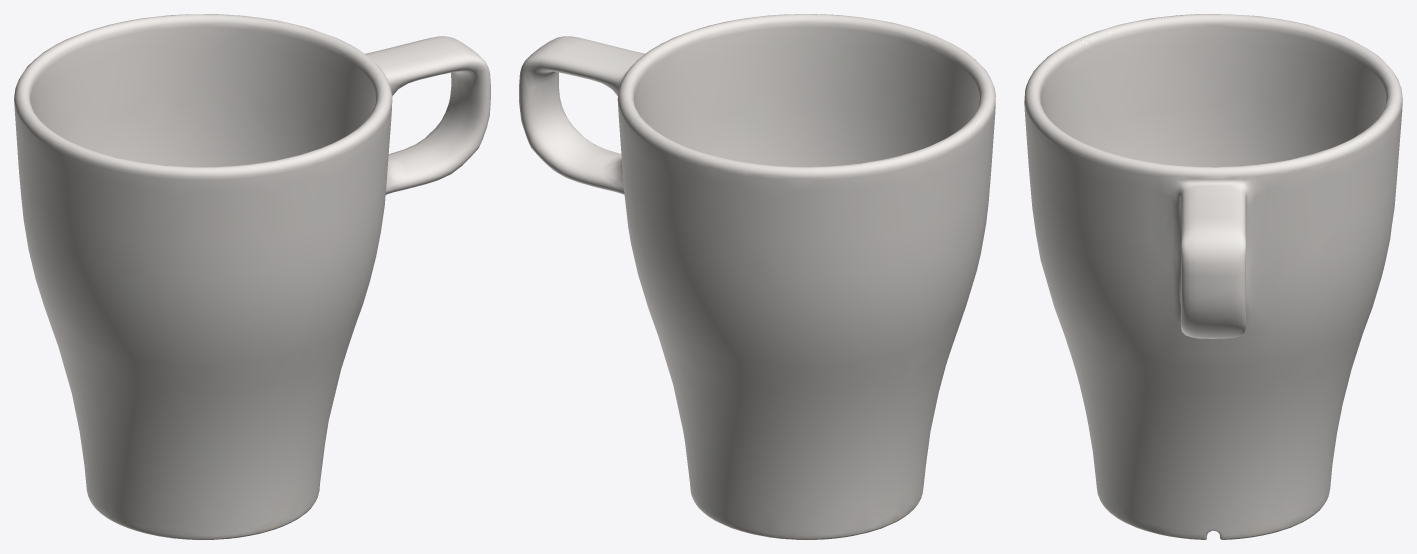
The model's file is fargrik_kubek_60143992.glb.
3 renders of one model, left to right at view 1: azimuth 30°, elevation 25°; view 2: azimuth 150°, elevation 25°; view 3: azimuth 270°, elevation 25°, orthographic.
Visible parts, largest first — view 1: fargrik_kubek_60143992; view 2: fargrik_kubek_60143992; view 3: fargrik_kubek_60143992.
Boxes of the visible parts, bbox=[...] form: fargrik_kubek_60143992: bbox=[14, 14, 490, 539]; fargrik_kubek_60143992: bbox=[519, 14, 995, 539]; fargrik_kubek_60143992: bbox=[1024, 14, 1402, 539].
Size of the model in its own units: 0.1146 by 0.0998 by 0.0852.
Materials: 1 (1 with a texture image).
